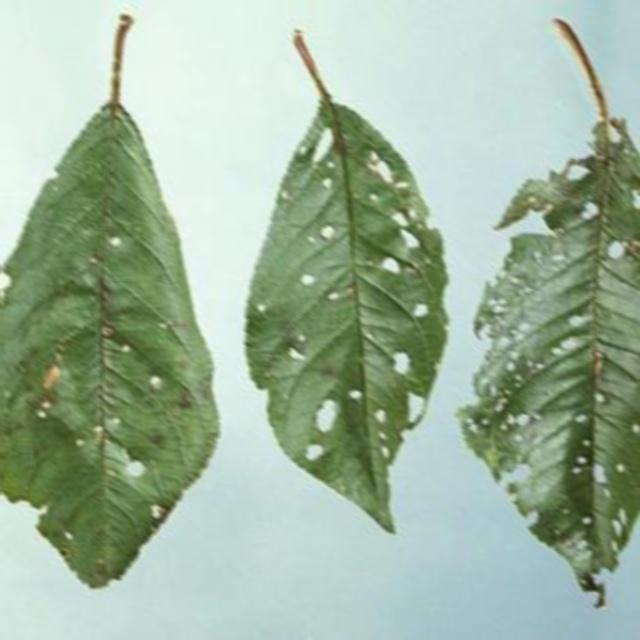shot_hole: (0, 40, 232, 623), (238, 39, 469, 622), (469, 37, 640, 620)
